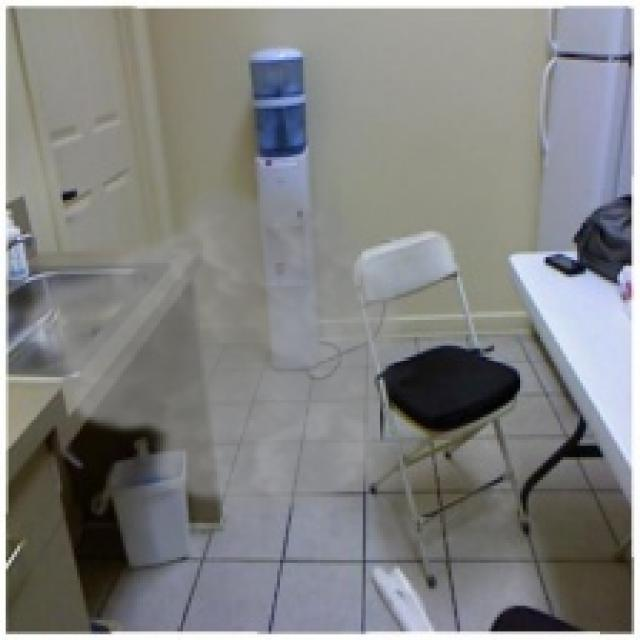Smoke: (9, 174, 408, 517)
